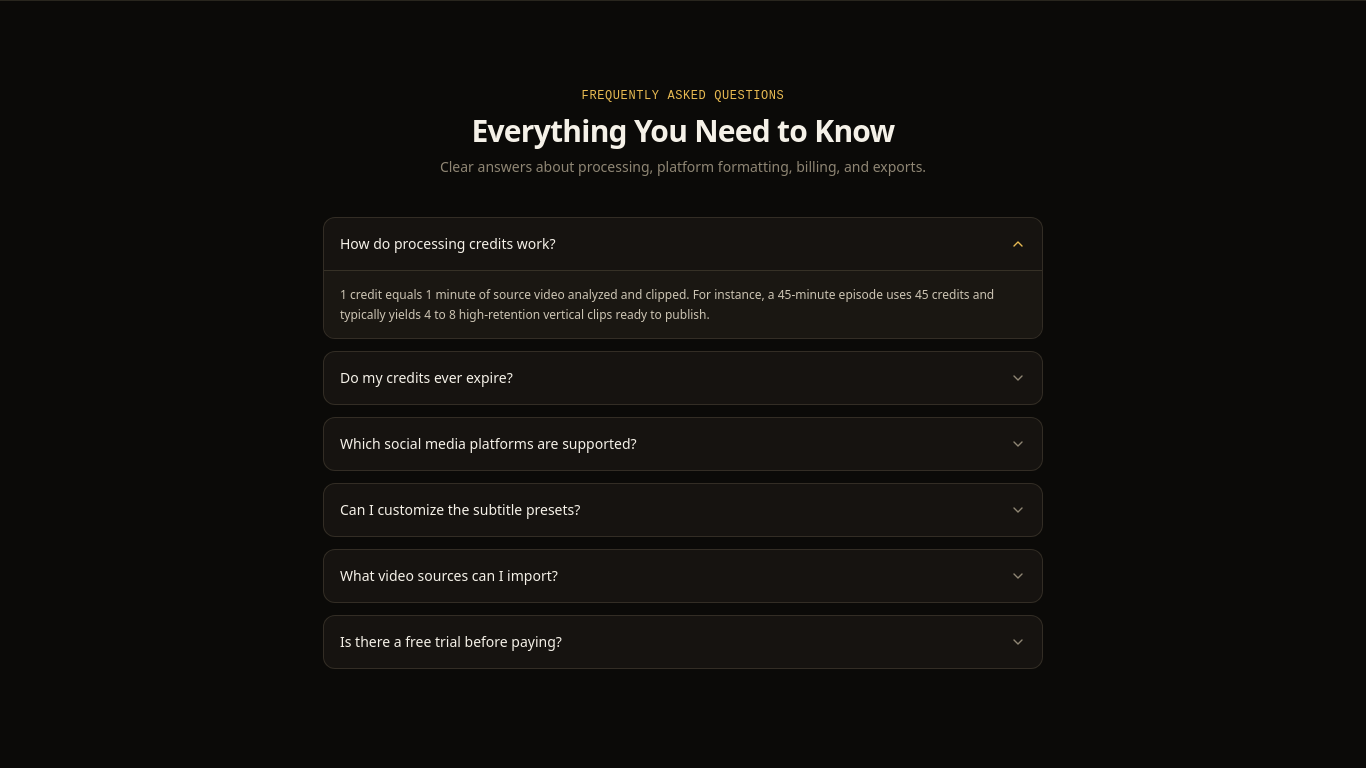
FAQSection - Accessibility (WCAG 2.1 AA) › painel fechado continua no DOM (oculto) para que aria-controls sempre aponte para algo
Click the button "Do my credits ever expire?".
click(426, 378)  # box top-left (324, 352), bottom-right (1042, 404)
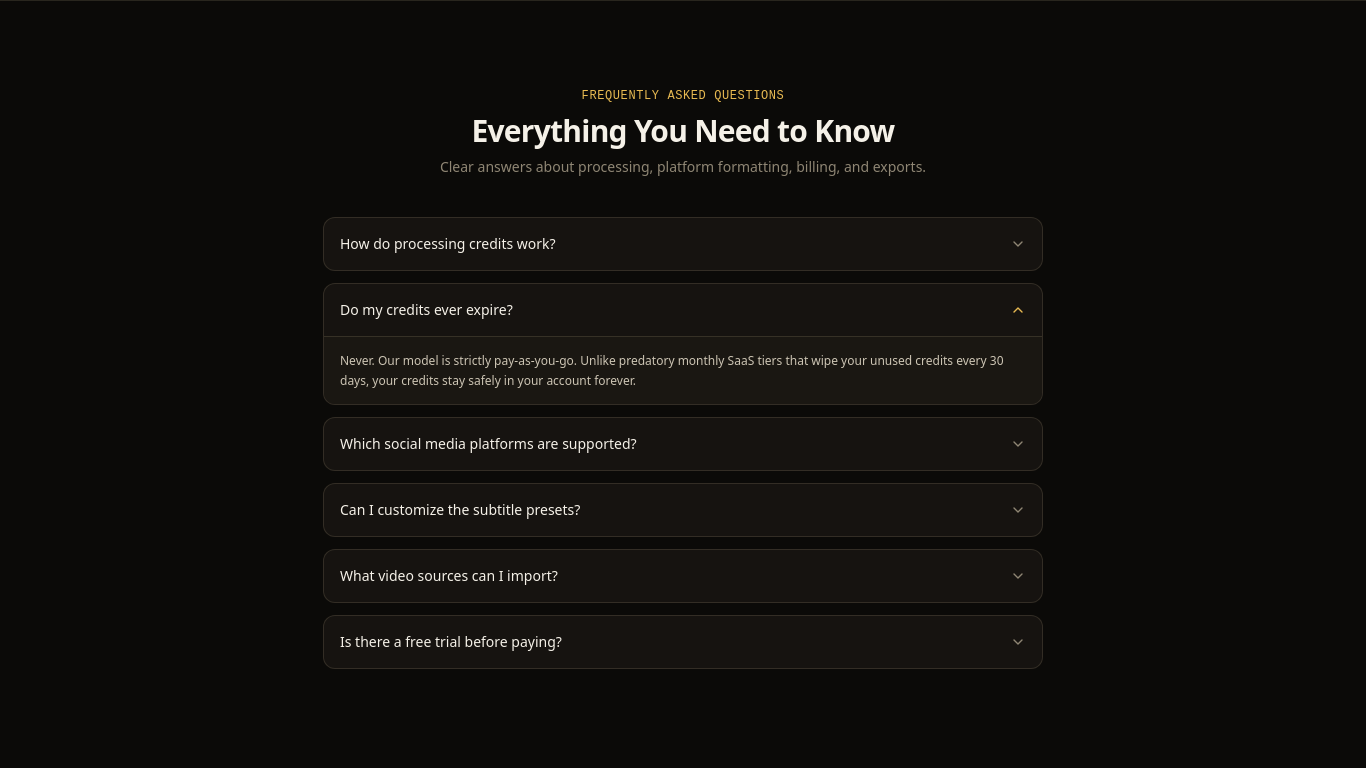
Result: the button "Do my credits ever expire?" is expanded at top-left (324, 284), bottom-right (1042, 336)
